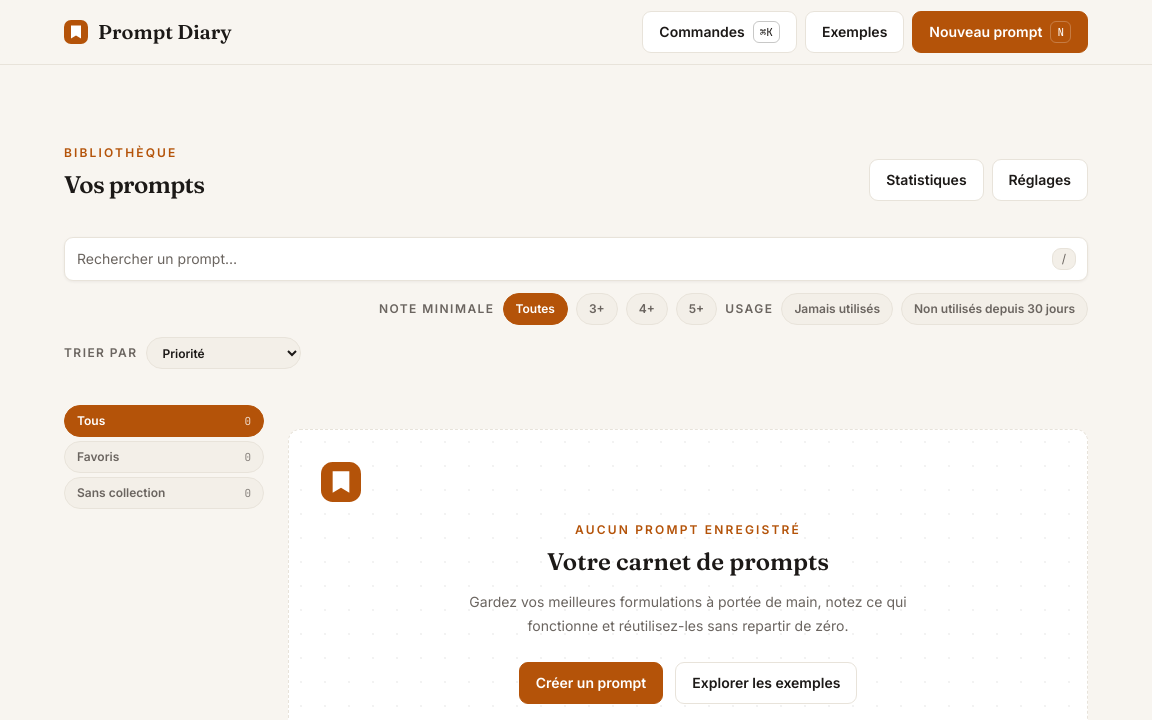
Scenario: Prompt Diary prompt library › opens the command palette and navigates to examples
This screenshot has width=1152, height=720.
Check: the text "Aucun prompt enregistré" is shown, box top-left (575, 522), bottom-right (801, 537)
Type keys "{Control>}k{/Control}"
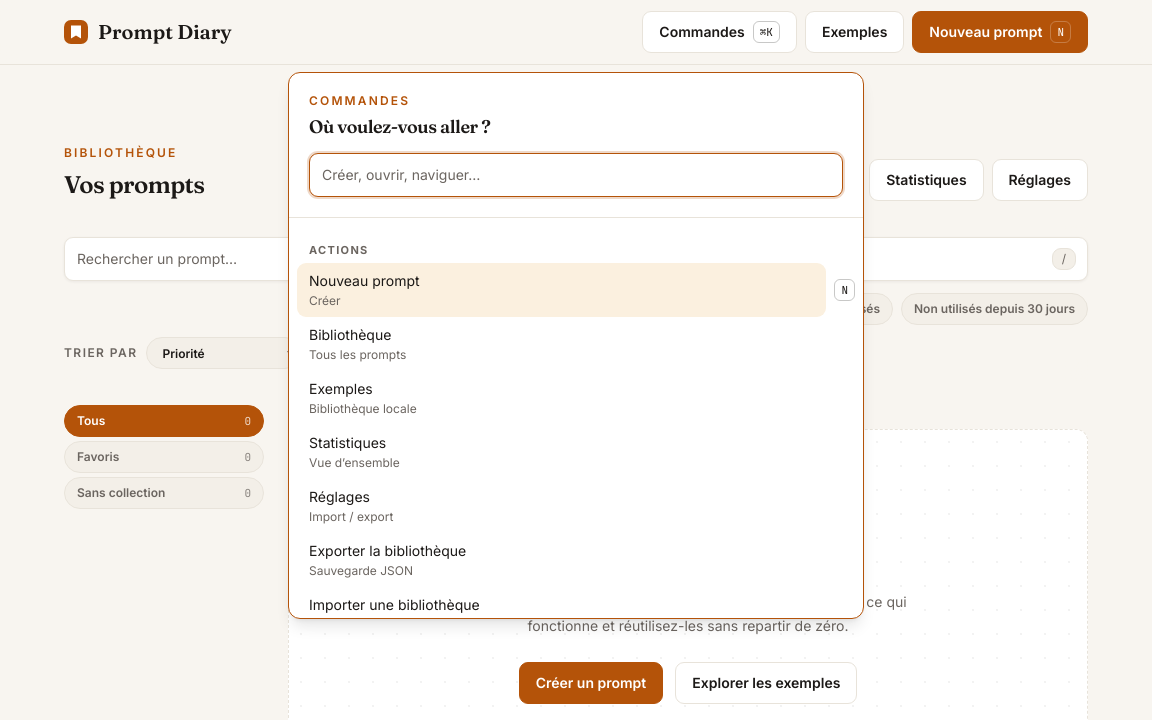
Type "exemples" into the dropdown named "Rechercher une commande ou un prompt".
click(576, 175); type("exemples")  # box top-left (309, 153), bottom-right (843, 197)
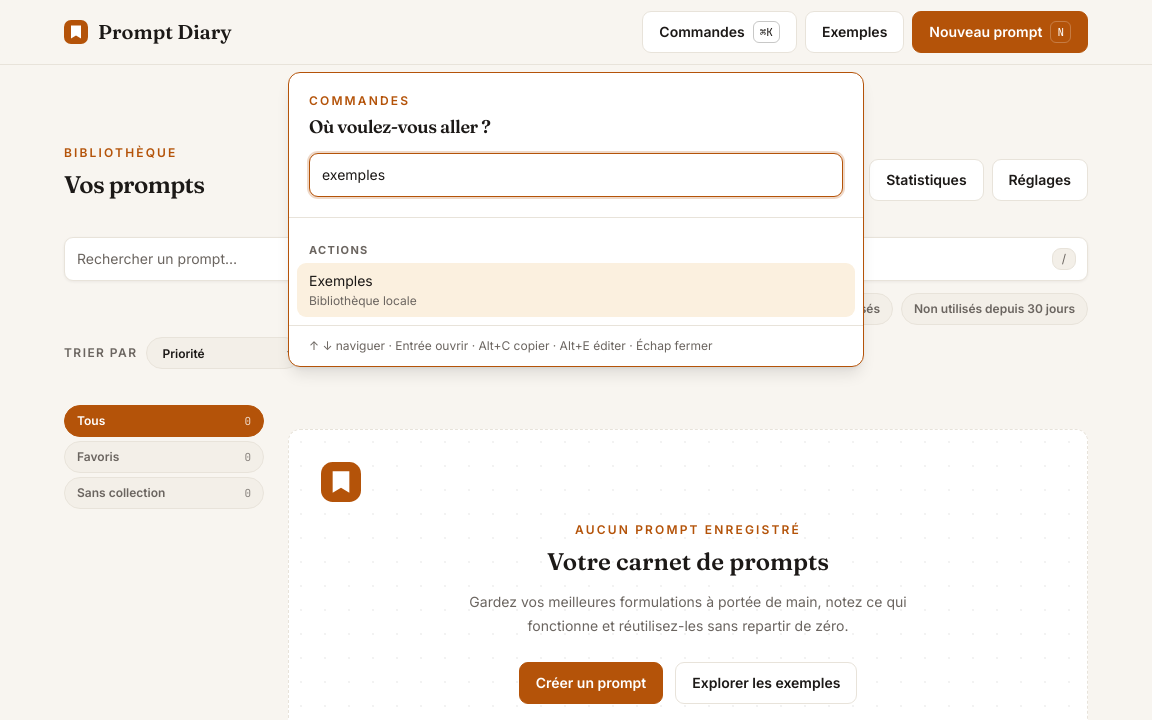
Press Enter
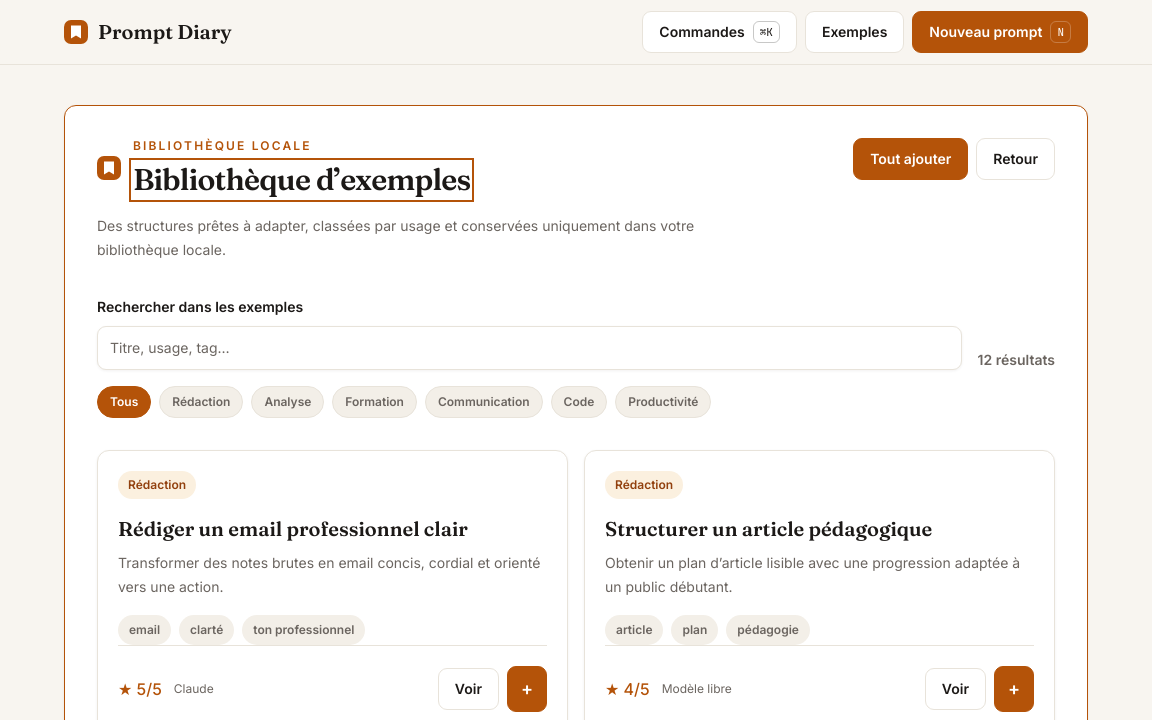
Check: the heading "Bibliothèque d’exemples" is shown, box top-left (133, 162), bottom-right (470, 198)
